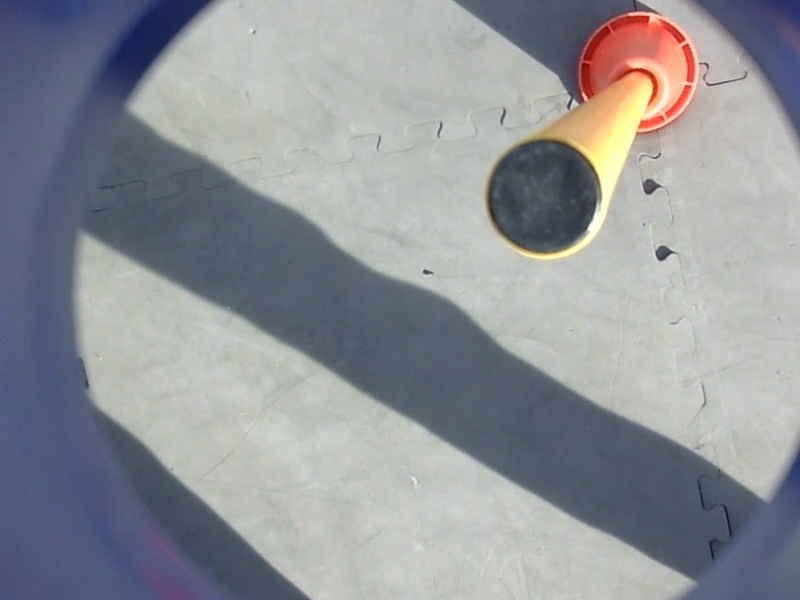tip: (480, 133, 610, 266)
